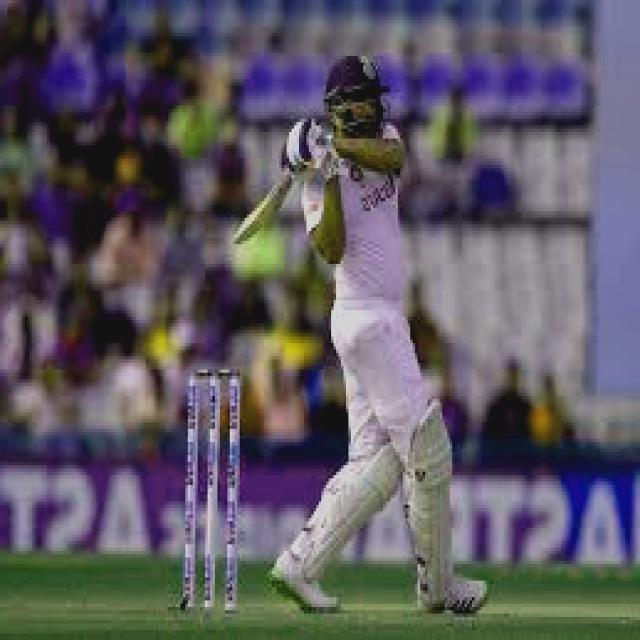toe: (225, 220, 252, 250)
